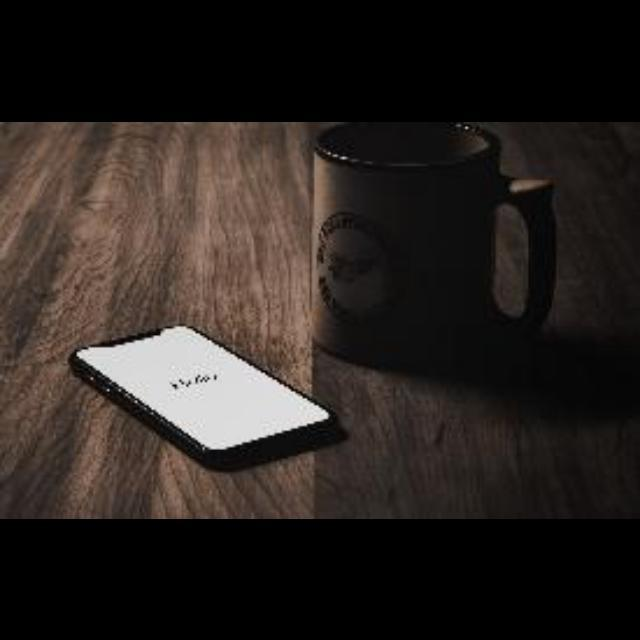phone: (64, 312, 346, 468)
